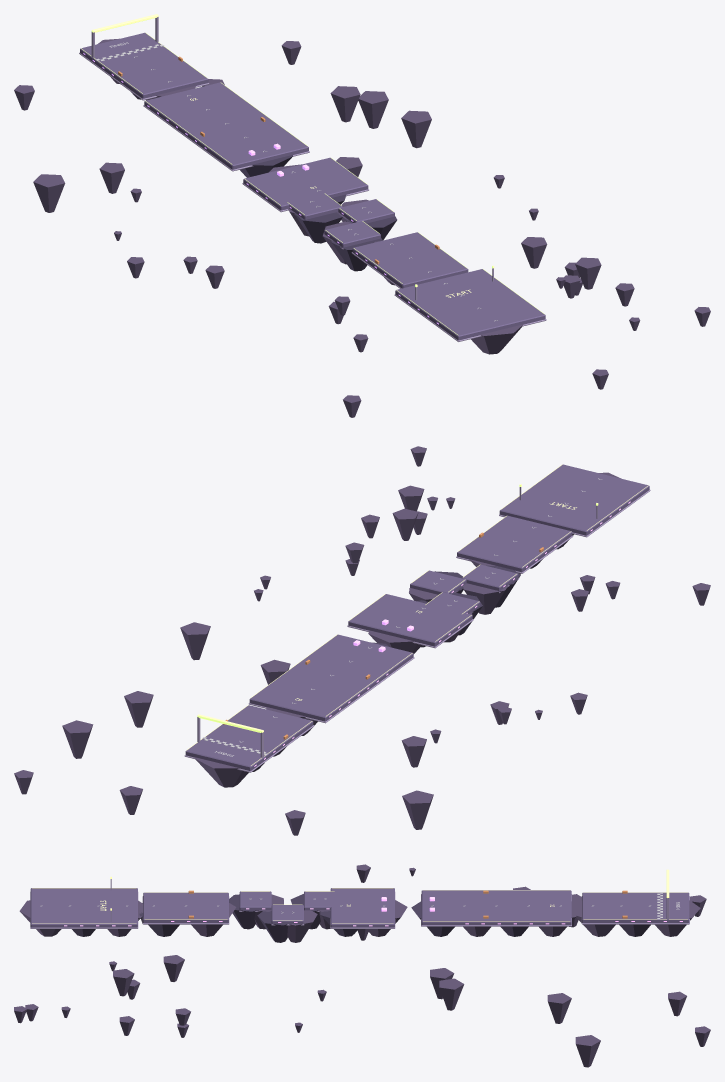
File: circuito.glb
3 renders of one model, top to bottom at view 1: azimuth 30°, elevation 25°; view 2: azimuth 150°, elevation 25°; view 3: azimuth 270°, elevation 25°, orthographic. The views are drawn at different scales.
Parts seen in each view (by area): view 1: Circuito_optimizado; view 2: Circuito_optimizado; view 3: Circuito_optimizado.
Boxes of the visible parts, bbox=[...] form: Circuito_optimizado: bbox=[14, 14, 710, 417]; Circuito_optimizado: bbox=[14, 446, 710, 835]; Circuito_optimizado: bbox=[14, 864, 710, 1067].
Size of the model in its own units: 71.37 by 20.67 by 130.
